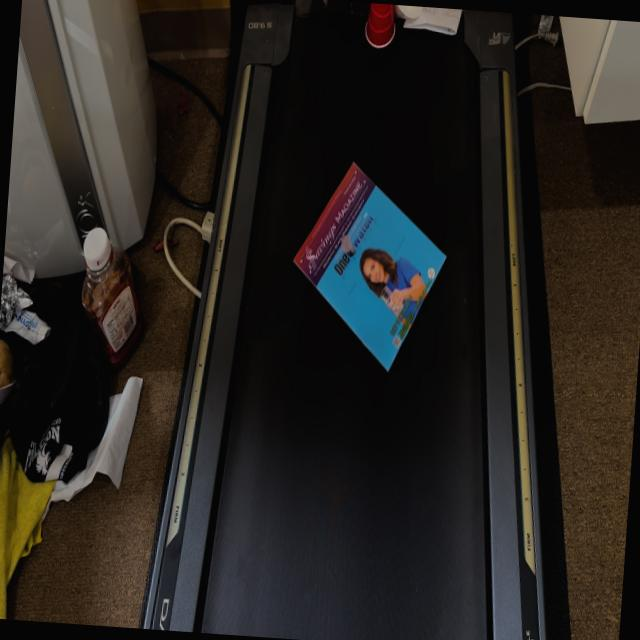Trash: (285, 156, 455, 404), (356, 2, 404, 46)
